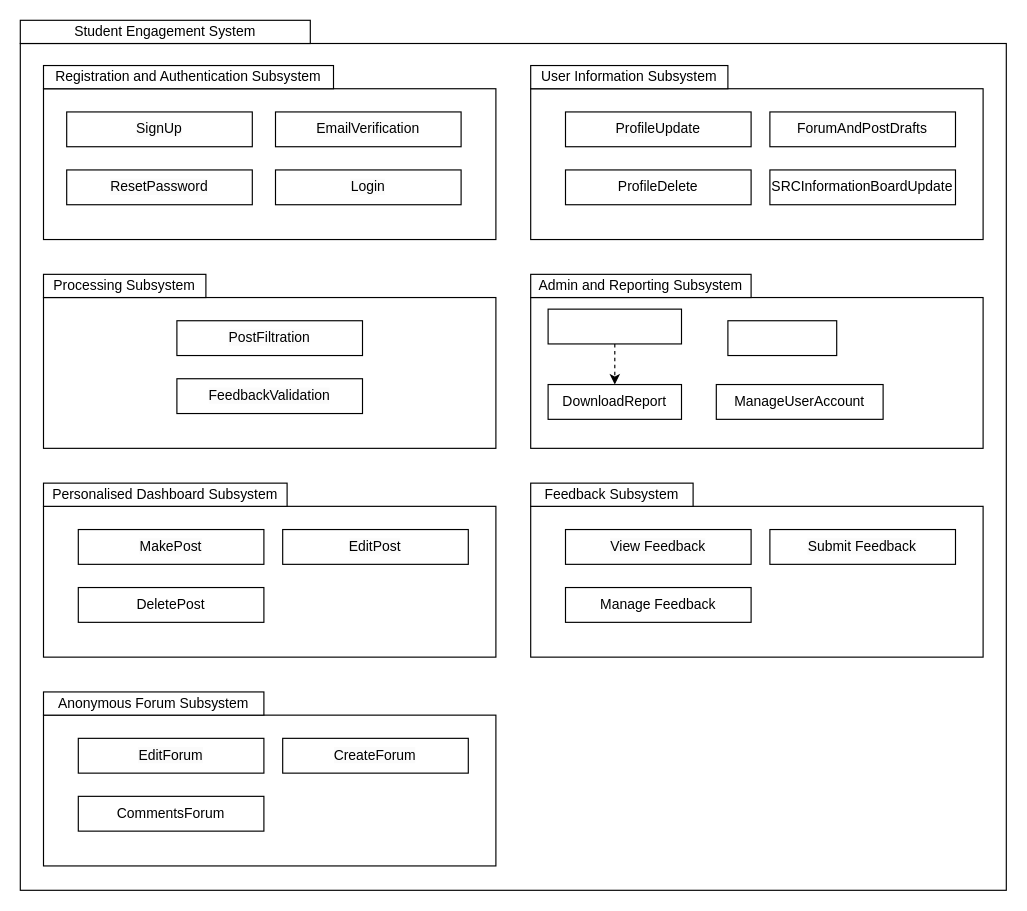
Image size: 1027x911. Some labels were removed from this diagram. The shapes that lost their labels are listed below. From the top down, each one's box as (x1, y1, x2, y2) in pixels, then its label:
(547, 308, 682, 344): GenerateReport
(727, 320, 837, 356): View Report
